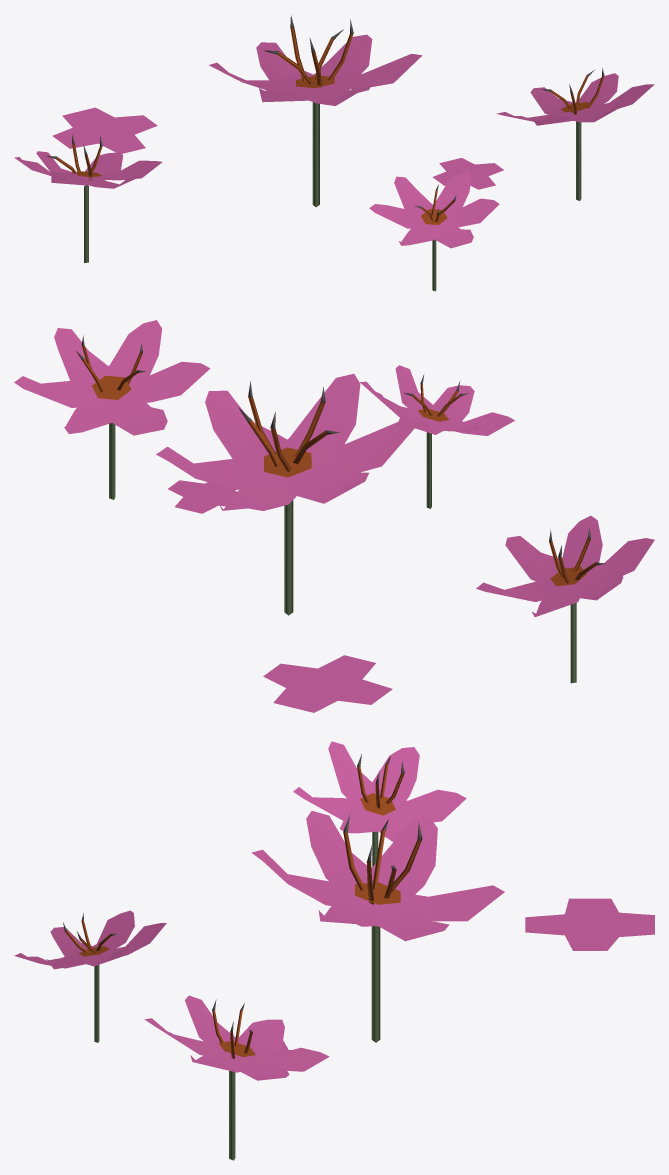
File: P_alpros_01_LD.fbx
The picture shows the model from 3 angles, top to bottom: view 1: azimuth 30°, elevation 25°; view 2: azimuth 150°, elevation 25°; view 3: azimuth 270°, elevation 25°; orthographic projection. The views are drawn at different scales.
Visible parts, largest first — view 1: P_alpros_01; view 2: P_alpros_01; view 3: P_alpros_01.
Part boxes in pixels (left/top/right/bottom): P_alpros_01: left=14, top=15, right=654, bottom=291; P_alpros_01: left=14, top=320, right=654, bottom=712; P_alpros_01: left=14, top=741, right=654, bottom=1160.
Bounding box in the file's own units: 94.48 × 29.79 × 79.89.
